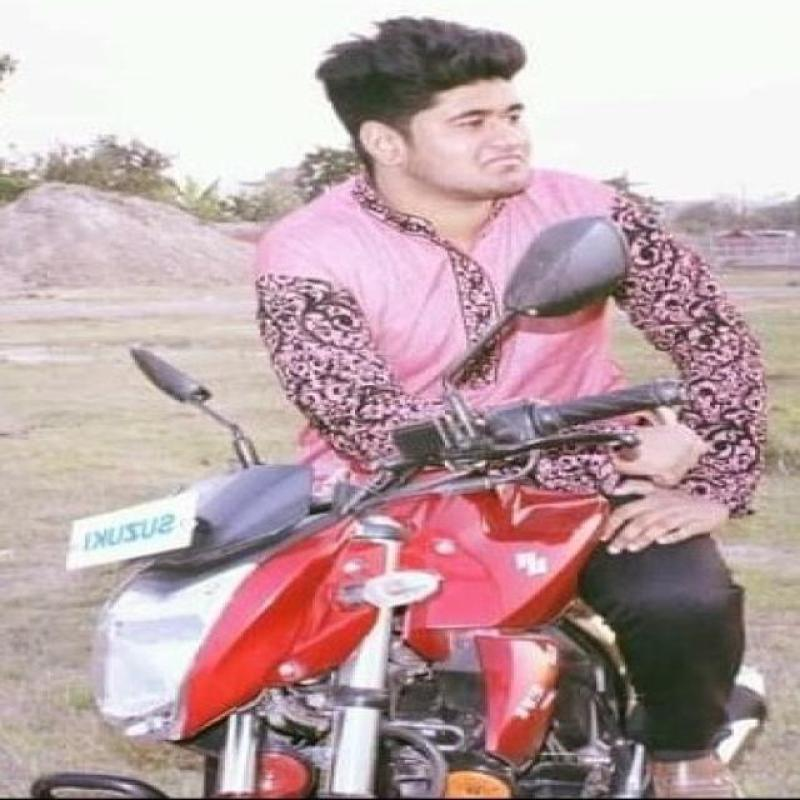nohelmet: (299, 28, 577, 202)
